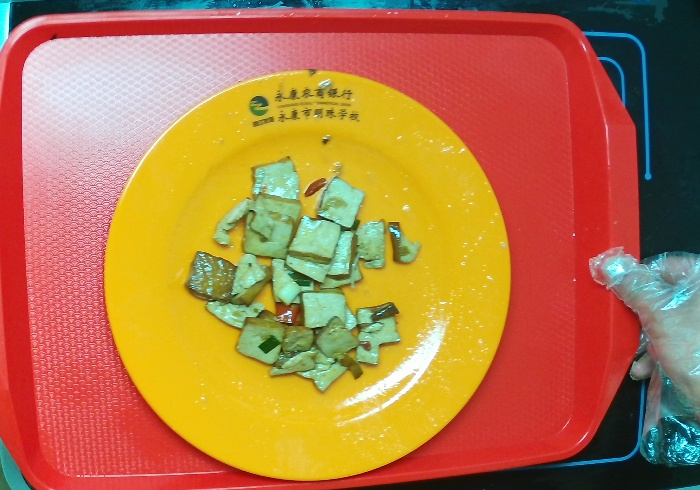YKMZ-Ju_Se_Mian_Pan: (101, 66, 514, 484)
